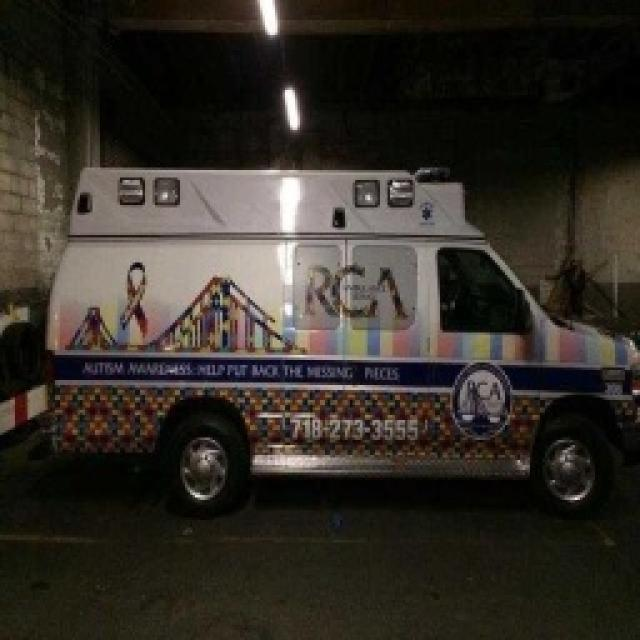emergency-vehicle: (28, 160, 632, 514)
